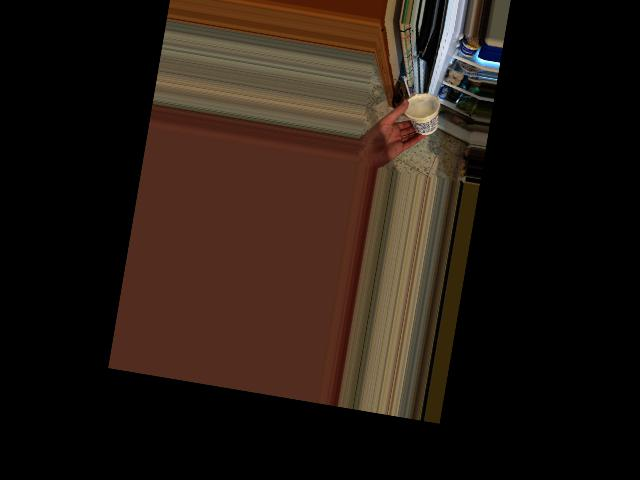cotage: (400, 89, 439, 137)
